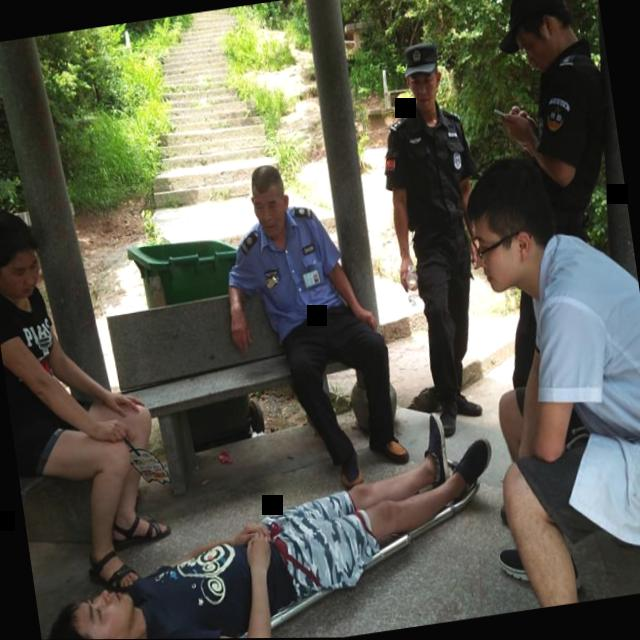Fall-Detected: (17, 390, 534, 640)
